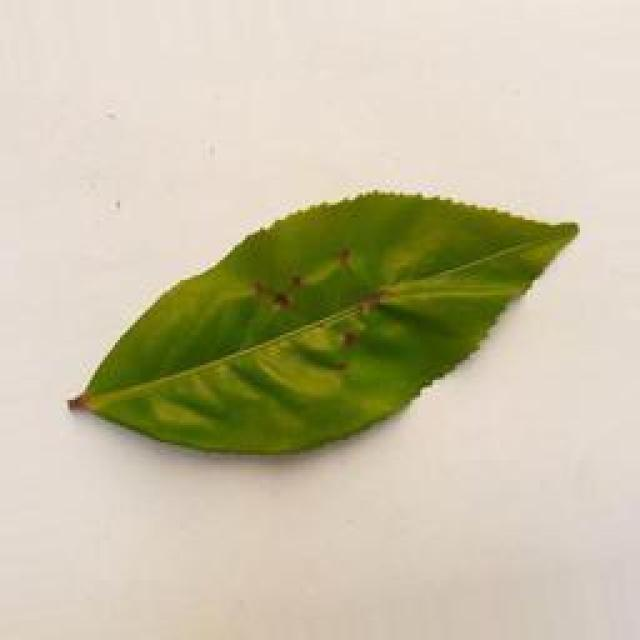Helopeltis: (61, 182, 590, 466)
